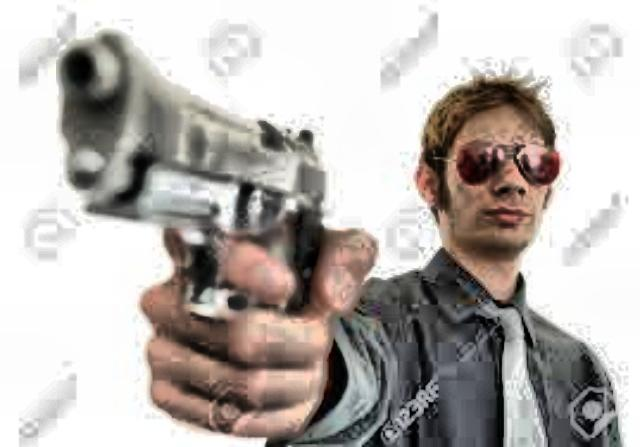pistol: (62, 17, 318, 316)
